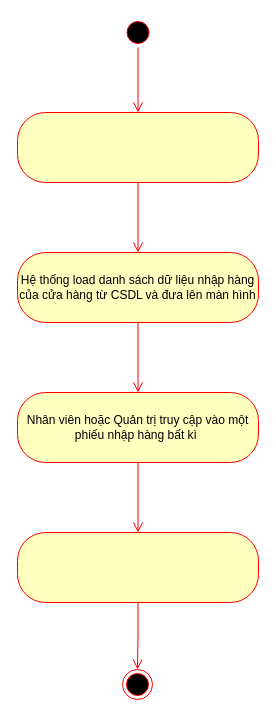
Image size: 276x717. Some labels were removed from this diagram. Each missing label, with the box of its shape:
Hệ thống load chi tiết phiếu nhập hàng lên một cửa số nhỏ trên màn hình: (16, 532, 258, 602)
Nhân viên hoặc Quản trị truy cập vào trang Lịch sử nhập hàng: (16, 112, 258, 182)
